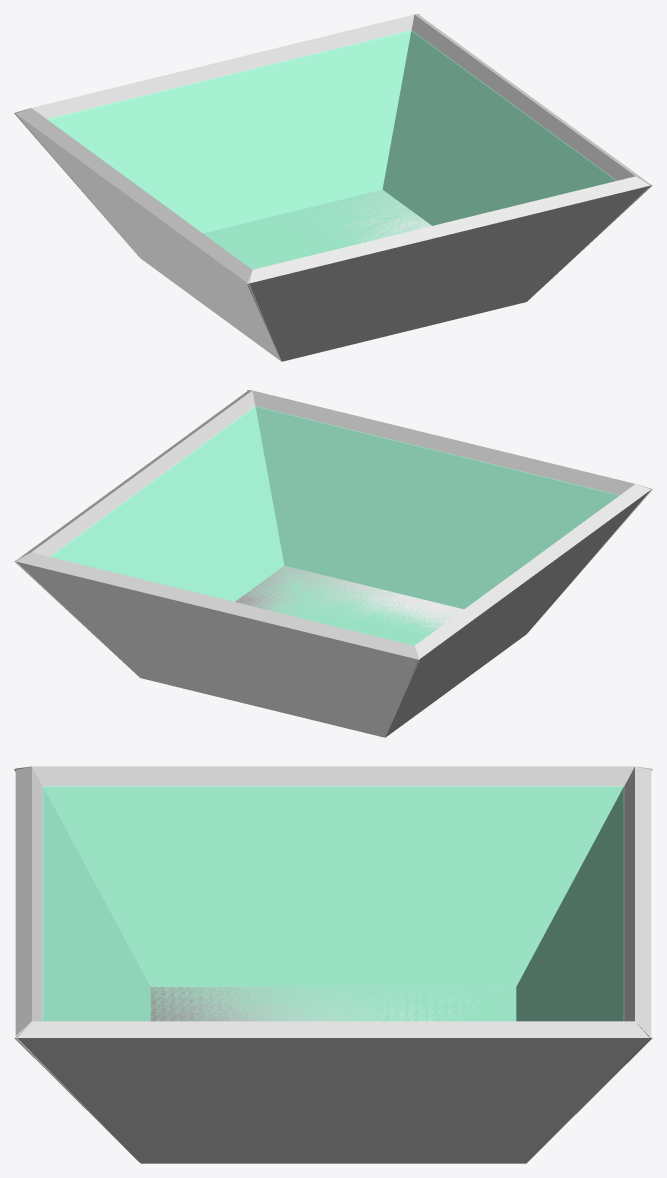
The model's file is bowl_square.fbx.
3 views of the same model, one above another, from view 1: azimuth 30°, elevation 25°; view 2: azimuth 150°, elevation 25°; view 3: azimuth 270°, elevation 25° (orthographic). The views are drawn at different scales.
Parts seen in each view (by area): view 1: bowl_square, bowl_square.001, bowl_square.002, bowl_square.004, bowl_square.003, bowl_square.005; view 2: bowl_square, bowl_square.004, bowl_square.002, bowl_square.001, bowl_square.005, bowl_square.003; view 3: bowl_square, bowl_square.003, bowl_square.002, bowl_square.004, bowl_square.001, bowl_square.005.
Boxes of the visible parts, left/top/right/bottom form: bowl_square: left=47, top=30, right=616, bottom=313; bowl_square.001: left=247, top=176, right=652, bottom=361; bowl_square.002: left=15, top=108, right=281, bottom=361; bowl_square.004: left=14, top=14, right=419, bottom=245; bowl_square.003: left=411, top=14, right=652, bottom=299; bowl_square.005: left=307, top=190, right=431, bottom=243; bowl_square: left=50, top=406, right=619, bottom=737; bowl_square.004: left=14, top=552, right=419, bottom=737; bowl_square.002: left=385, top=484, right=651, bottom=737; bowl_square.001: left=247, top=390, right=652, bottom=626; bowl_square.005: left=235, top=566, right=463, bottom=633; bowl_square.003: left=14, top=390, right=255, bottom=670; bowl_square: left=42, top=786, right=624, bottom=1021; bowl_square.003: left=14, top=1021, right=652, bottom=1163; bowl_square.002: left=14, top=766, right=652, bottom=986; bowl_square.004: left=527, top=766, right=651, bottom=1162; bowl_square.001: left=15, top=766, right=122, bottom=1145; bowl_square.005: left=150, top=987, right=479, bottom=1021.
Size of the model in its own units: 0.3988 by 0.1296 by 0.3988.
